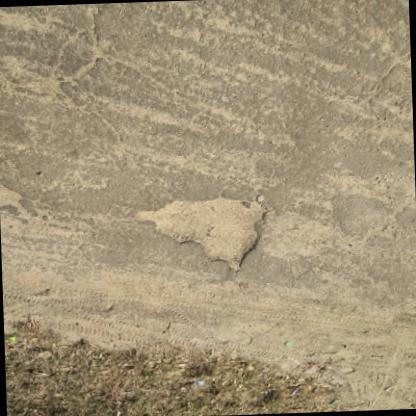pothole: (135, 188, 271, 270)
